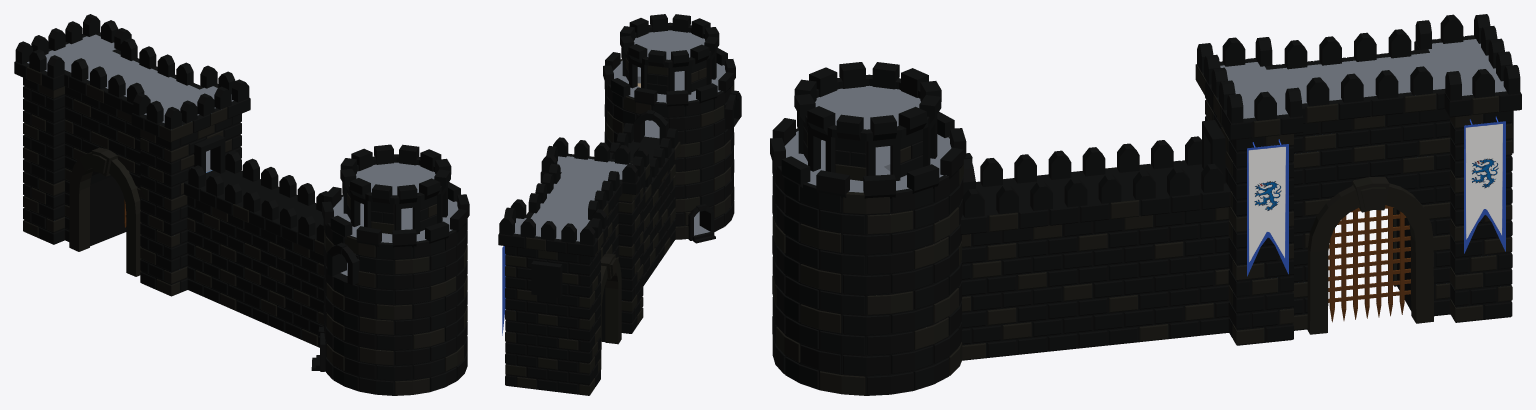
File: mountain_pass1.glb
3 views of the same model, side by side, from view 1: azimuth 30°, elevation 25°; view 2: azimuth 150°, elevation 25°; view 3: azimuth 270°, elevation 25° (orthographic). The views are drawn at different scales.
Visible parts, largest first — view 1: Gate.Primary.001, Turret.FrontLeft.Primary.001, Wall.Primary1.001, Gate.Secondary.001, Turret.FrontLeft.Cap.Primary.001, Turret.FrontLeft.Secondary.001, Gate.Frame.Interior.001, Gate.Floor.001, Wall.Secondary1.001, Turret.FrontLeft.Cap.Floors.001, Turret.FrontLeft.Floors.001; view 2: Gate.Primary.001, Turret.FrontLeft.Primary.001, Turret.FrontLeft.Cap.Primary.001, Gate.Secondary.001, Wall.Primary1.001, Gate.Floor.001, Turret.FrontLeft.Secondary.001, Gate.Frame.Interior.001, Turret.FrontLeft.Floors.001, Turret.FrontLeft.Cap.Floors.001, Wall.Secondary1.001, Turret.FrontLeft.Cap.Secondary.001 (+1 smaller); view 3: Wall.Primary1.001, Gate.Primary.001, Turret.FrontLeft.Primary.001, Gate.Secondary.001, Turret.FrontLeft.Cap.Primary.001, Turret.FrontLeft.Secondary.001, Wall.Secondary1.001, Gate.Floor.001, Gate.Frame.Exterior.001, Gate.WoodPortcullis.Passable.001, Flag.Vertical2.001, Flag.Vertical1.001 (+2 smaller).
Part boxes in pixels (<box>): Gate.Primary.001: <box>14,14,250,295</box>; Turret.FrontLeft.Primary.001: <box>318,182,469,395</box>; Wall.Primary1.001: <box>184,150,327,347</box>; Gate.Secondary.001: <box>23,58,231,296</box>; Turret.FrontLeft.Cap.Primary.001: <box>340,144,451,234</box>; Turret.FrontLeft.Secondary.001: <box>324,201,467,395</box>; Gate.Frame.Interior.001: <box>69,147,141,276</box>; Gate.Floor.001: <box>27,34,233,172</box>; Wall.Secondary1.001: <box>187,186,323,346</box>; Turret.FrontLeft.Cap.Floors.001: <box>356,162,435,195</box>; Turret.FrontLeft.Floors.001: <box>333,196,458,275</box>; Gate.Primary.001: <box>498,137,648,395</box>; Turret.FrontLeft.Primary.001: <box>603,47,741,240</box>; Turret.FrontLeft.Cap.Primary.001: <box>620,14,719,94</box>; Gate.Secondary.001: <box>505,156,649,395</box>; Wall.Primary1.001: <box>610,123,678,286</box>; Gate.Floor.001: <box>514,156,629,241</box>; Turret.FrontLeft.Secondary.001: <box>605,58,734,239</box>; Gate.Frame.Interior.001: <box>600,253,621,369</box>; Turret.FrontLeft.Floors.001: <box>613,60,725,235</box>; Turret.FrontLeft.Cap.Floors.001: <box>634,30,705,59</box>; Wall.Secondary1.001: <box>643,141,680,265</box>; Turret.FrontLeft.Cap.Secondary.001: <box>625,58,706,82</box>; Wall.Primary1.001: <box>960,136,1230,360</box>; Gate.Primary.001: <box>1197,14,1521,345</box>; Turret.FrontLeft.Primary.001: <box>770,111,975,395</box>; Gate.Secondary.001: <box>1195,36,1512,345</box>; Turret.FrontLeft.Cap.Primary.001: <box>794,62,941,180</box>; Turret.FrontLeft.Secondary.001: <box>772,160,963,395</box>; Wall.Secondary1.001: <box>961,167,1229,360</box>; Gate.Floor.001: <box>1220,39,1506,118</box>; Gate.Frame.Exterior.001: <box>1307,177,1433,334</box>; Gate.WoodPortcullis.Passable.001: <box>1328,205,1410,322</box>; Flag.Vertical2.001: <box>1464,116,1505,253</box>; Flag.Vertical1.001: <box>1247,139,1288,276</box>.
Bounding box in the file's own units: 3.47 × 3.1 × 8.01.
9 materials, 1 textured.
